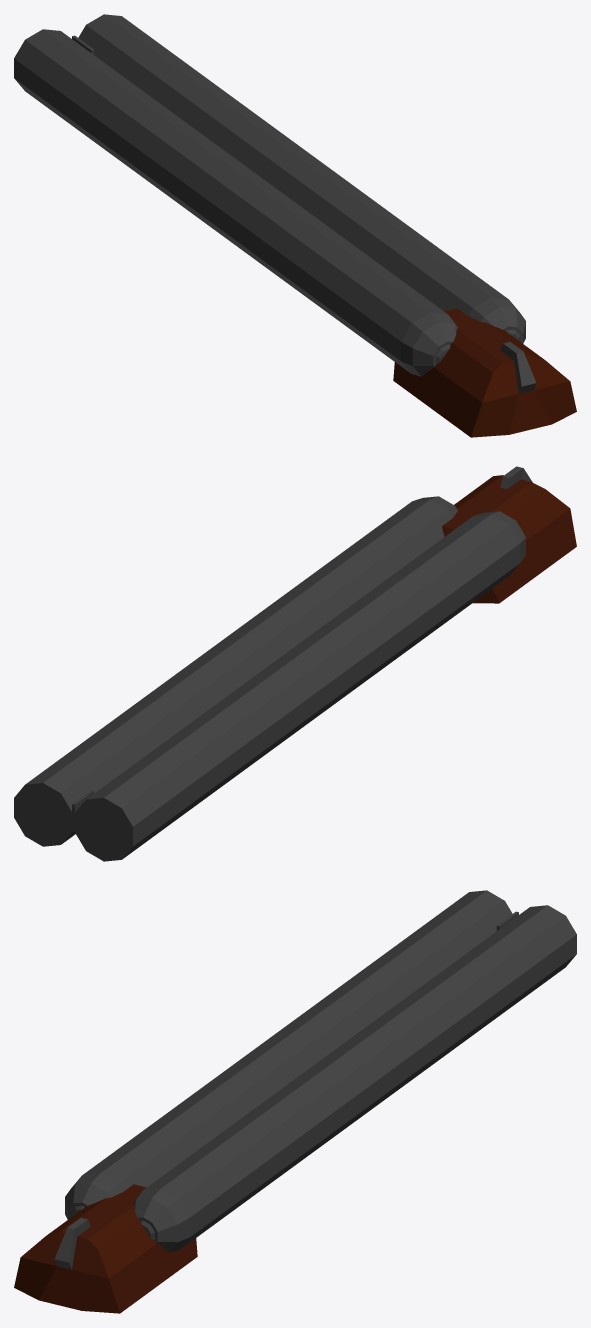
Rendered from shotgun.fbx.
3 views of the same model, one above another, from view 1: azimuth 30°, elevation 25°; view 2: azimuth 150°, elevation 25°; view 3: azimuth 330°, elevation 25° (orthographic).
Visible parts, largest first — view 1: ShotGun; view 2: ShotGun; view 3: ShotGun.
Part boxes in pixels (x1=…): ShotGun: x1=14, y1=14, x2=576, y2=437; ShotGun: x1=14, y1=466, x2=576, y2=861; ShotGun: x1=14, y1=890, x2=576, y2=1313.
Bounding box in the file's own units: 390 × 229 × 2599.
